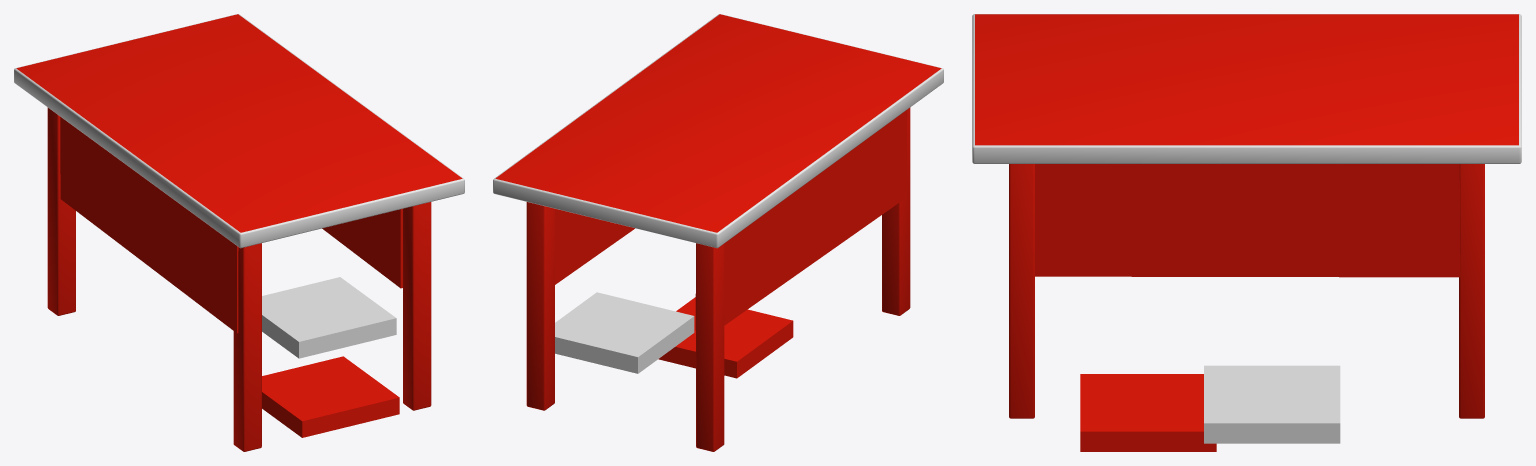
The model's file is table5.fbx.
3 renders of one model, left to right at view 1: azimuth 30°, elevation 25°; view 2: azimuth 150°, elevation 25°; view 3: azimuth 270°, elevation 25°, orthographic. The views are drawn at different scales.
Visible parts, largest first — view 1: Cube, Cube.001, Cube.003, Cube.004, Cube.005, Cube.002; view 2: Cube, Cube.003, Cube.001, Cube.005, Cube.004, Cube.002; view 3: Cube, Cube.002, Cube.001, Cube.005, Cube.004.
Boxes of the visible parts, x1=… form: Cube: x1=14, y1=14, x2=464, y2=248; Cube.001: x1=47, y1=107, x2=431, y2=451; Cube.003: x1=60, y1=117, x2=238, y2=333; Cube.004: x1=262, y1=356, x2=399, y2=437; Cube.005: x1=262, y1=277, x2=396, y2=358; Cube.002: x1=322, y1=209, x2=402, y2=288; Cube: x1=493, y1=14, x2=943, y2=248; Cube.003: x1=695, y1=110, x2=907, y2=329; Cube.001: x1=526, y1=107, x2=910, y2=451; Cube.005: x1=555, y1=292, x2=694, y2=373; Cube.004: x1=658, y1=297, x2=793, y2=378; Cube.002: x1=555, y1=209, x2=634, y2=284; Cube: x1=972, y1=14, x2=1521, y2=163; Cube.002: x1=1035, y1=164, x2=1460, y2=277; Cube.001: x1=1009, y1=164, x2=1484, y2=418; Cube.005: x1=1204, y1=365, x2=1340, y2=443; Cube.004: x1=1080, y1=374, x2=1216, y2=451.
Bounding box in the file's own units: 517 × 515 × 806.
